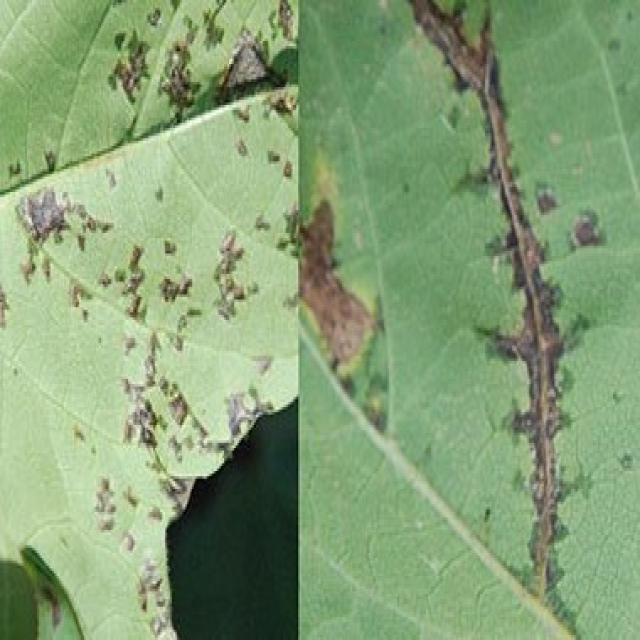Bacterial Blight: (385, 7, 635, 576), (69, 31, 310, 391)
